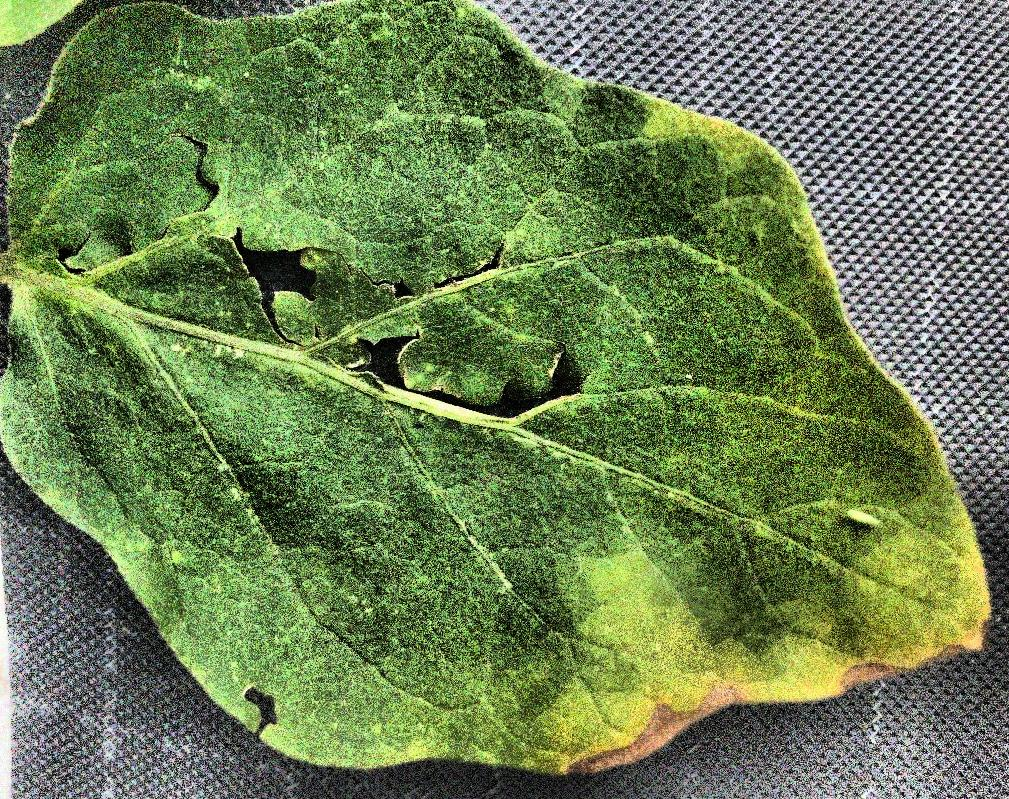Critical Stress: (1, 0, 1009, 799)
